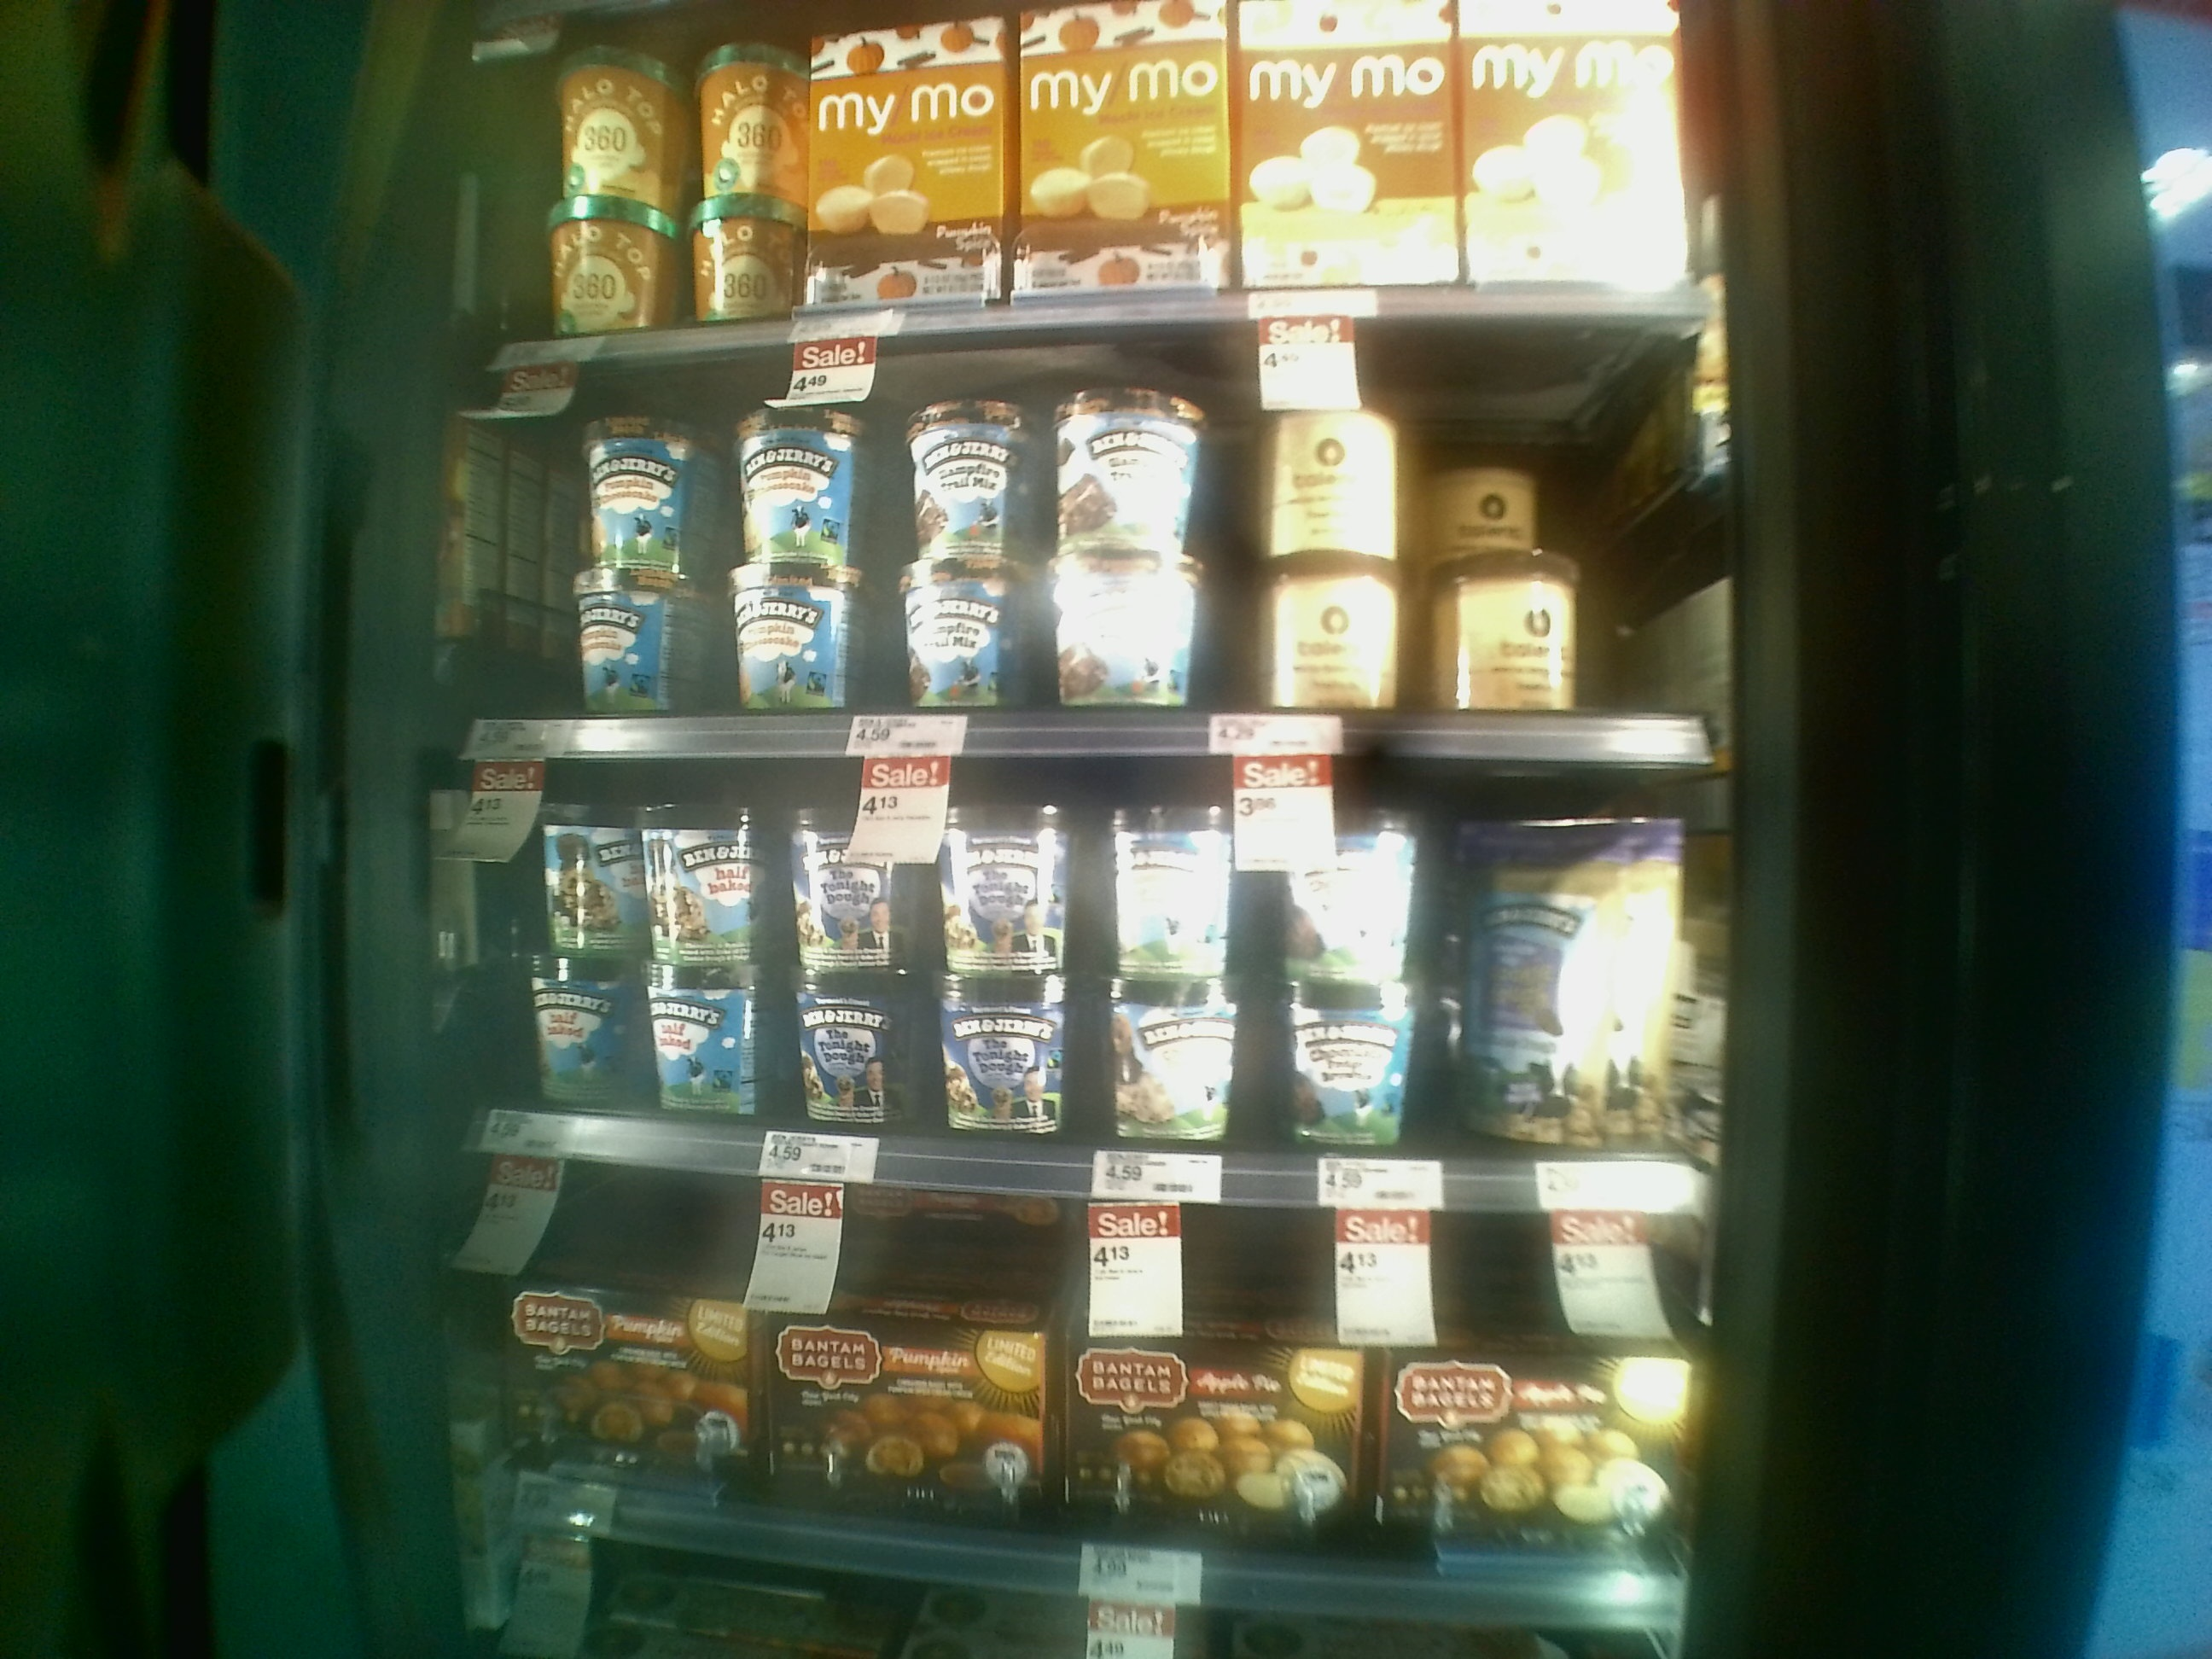shelf: (402, 1101, 1683, 1626), (435, 713, 1721, 1220), (430, 338, 1740, 770)
